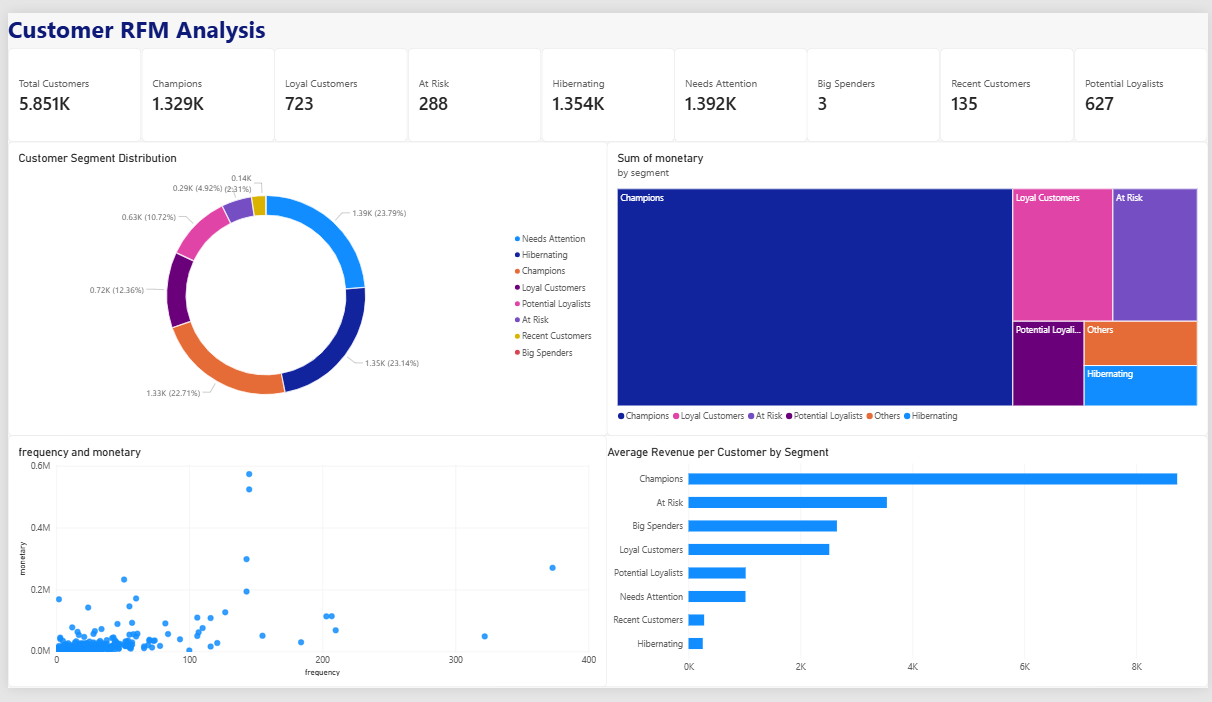

This screenshot's page, from the dashboard's own definition file:
{"tool":"powerbi","page":{"name":"Customer RFM Analysis","canvas":[1920,1080],"ordinal":1},"visuals":[{"type":"textbox","box":[0,0,1919.3,52.2],"z":0},{"type":"cardVisual","fields":{"Data":["Count(ecommerce_analytics rfm_customer_dashboard.customer_id)"]},"box":[0,56.2,213,150],"z":1000},{"type":"cardVisual","fields":{"Data":["Count(ecommerce_analytics rfm_customer_dashboard.customer_id)"]},"box":[213,56.2,213,150],"z":2000},{"type":"cardVisual","fields":{"Data":["Count(ecommerce_analytics rfm_customer_dashboard.customer_id)"]},"box":[425.8,55.8,213,150],"z":3000},{"type":"cardVisual","fields":{"Data":["Count(ecommerce_analytics rfm_customer_dashboard.customer_id)"]},"box":[639.1,56.2,213,150.7],"z":4000},{"type":"cardVisual","fields":{"Data":["Count(ecommerce_analytics rfm_customer_dashboard.customer_id)"]},"box":[854.1,56.2,213,150.7],"z":5000},{"type":"cardVisual","fields":{"Data":["Count(ecommerce_analytics rfm_customer_dashboard.customer_id)"]},"box":[1065.2,56.2,213,150.7],"z":6000},{"type":"cardVisual","fields":{"Data":["Count(ecommerce_analytics rfm_customer_dashboard.customer_id)"]},"box":[1278.3,56.2,213,150.7],"z":7000},{"type":"cardVisual","fields":{"Data":["Count(ecommerce_analytics rfm_customer_dashboard.customer_id)"]},"box":[1491.3,56.2,213,150],"z":8000},{"type":"cardVisual","fields":{"Data":["Count(ecommerce_analytics rfm_customer_dashboard.customer_id)"]},"box":[1706.3,56.2,213,150],"z":9000},{"type":"donutChart","title":"Customer Segment Distribution","fields":{"Category":["ecommerce_analytics rfm_customer_dashboard.customer_segment"],"Y":["Count(ecommerce_analytics rfm_customer_dashboard.customer_id)"]},"box":[0,206,960,470],"z":10000},{"type":"clusteredBarChart","title":"Average Revenue per Customer by Segment","fields":{"Category":["ecommerce_analytics rfm_customer_dashboard.customer_segment"],"Y":["cleaned_sales.Revenue per Customer"]},"box":[942,676,978,402],"z":12000},{"type":"scatterChart","fields":{"X":["customer_rfm.frequency"],"Y":["customer_rfm.monetary"]},"box":[0,676,958,402],"z":13000},{"type":"treemap","fields":{"Group":["customer_rfm.segment"],"Values":["Sum(customer_rfm.monetary)"]},"box":[958,206,962,470],"z":13001}]}

Visuals, with their boxes in screenshot pixels (x1, y1, x2, y2), scaled from the page's 1920x1080 canvas onto the 1212x702 screenshot:
textbox: crop(0, 0, 1211, 34)
cardVisual - Count(ecommerce_analytics rfm_customer_dashboard.customer_id): crop(0, 37, 134, 134)
cardVisual - Count(ecommerce_analytics rfm_customer_dashboard.customer_id): crop(134, 37, 269, 134)
cardVisual - Count(ecommerce_analytics rfm_customer_dashboard.customer_id): crop(269, 36, 403, 134)
cardVisual - Count(ecommerce_analytics rfm_customer_dashboard.customer_id): crop(403, 37, 538, 134)
cardVisual - Count(ecommerce_analytics rfm_customer_dashboard.customer_id): crop(539, 37, 674, 134)
cardVisual - Count(ecommerce_analytics rfm_customer_dashboard.customer_id): crop(672, 37, 807, 134)
cardVisual - Count(ecommerce_analytics rfm_customer_dashboard.customer_id): crop(807, 37, 941, 134)
cardVisual - Count(ecommerce_analytics rfm_customer_dashboard.customer_id): crop(941, 37, 1076, 134)
cardVisual - Count(ecommerce_analytics rfm_customer_dashboard.customer_id): crop(1077, 37, 1211, 134)
"Customer Segment Distribution" donutChart: crop(0, 134, 606, 439)
"Average Revenue per Customer by Segment" clusteredBarChart: crop(595, 439, 1211, 701)
scatterChart - customer_rfm.frequency x customer_rfm.monetary: crop(0, 439, 605, 701)
treemap - customer_rfm.segment x Sum(customer_rfm.monetary): crop(605, 134, 1211, 439)
